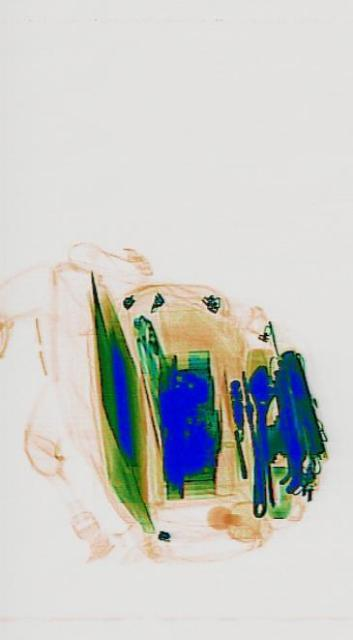Wrench: (244, 364, 274, 516)
